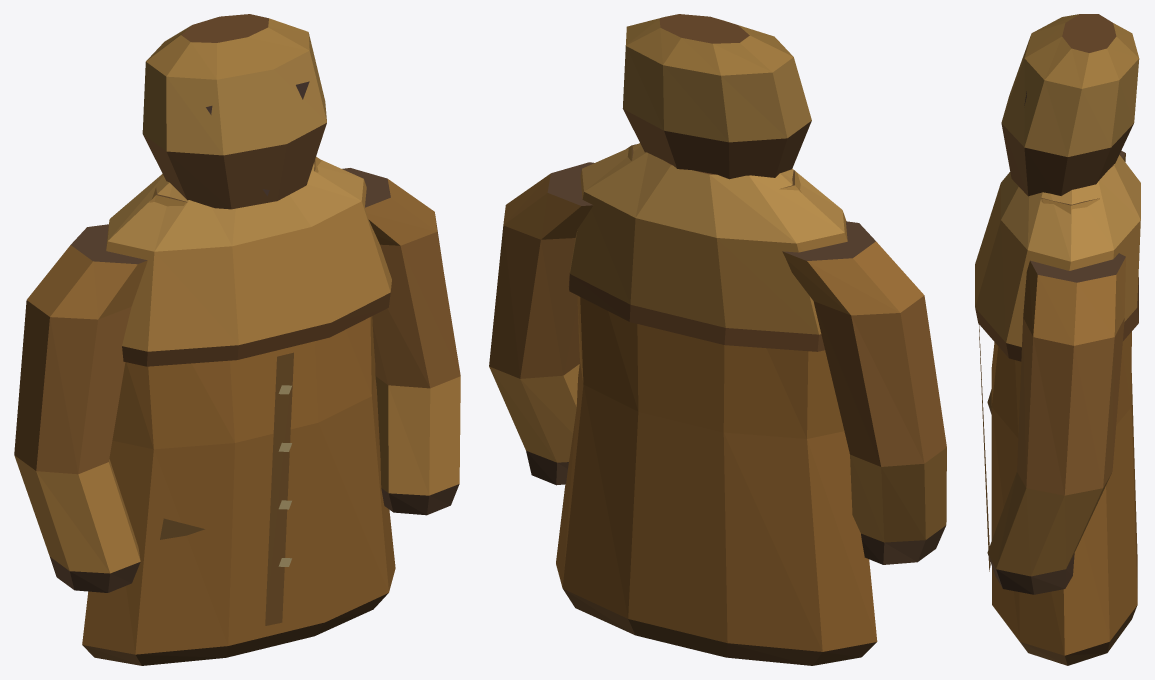
Rendered from oilskin.glb.
3 views of the same model, side by side, from view 1: azimuth 30°, elevation 25°; view 2: azimuth 150°, elevation 25°; view 3: azimuth 270°, elevation 25° (orthographic). The views are drawn at different scales.
Parts seen in each view (by area): view 1: oilskin; view 2: oilskin; view 3: oilskin.
Boxes of the visible parts, x1,y1,x2,y2 form: oilskin: (14, 14, 460, 665); oilskin: (489, 14, 946, 665); oilskin: (975, 14, 1140, 665).
Bounding box in the file's own units: 0.7845 × 1.02 × 0.2703.
